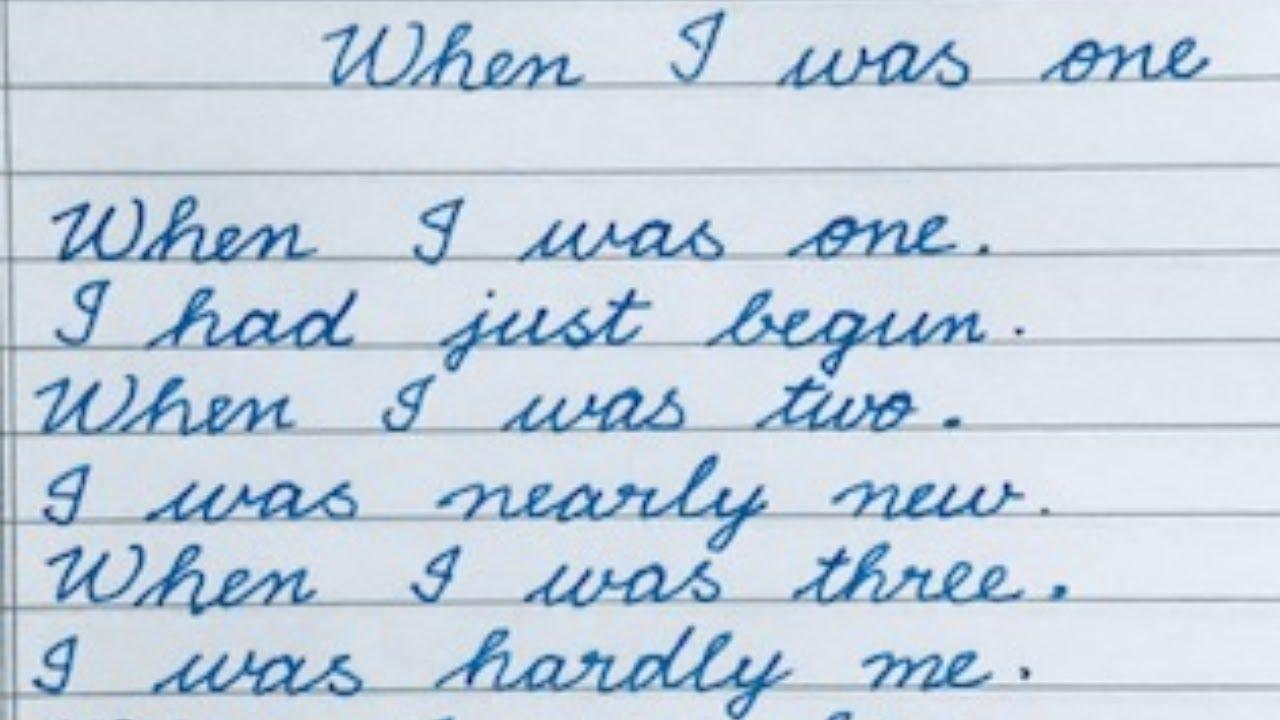text: (38, 447, 1054, 558), (47, 272, 1029, 380), (27, 618, 1034, 720), (40, 534, 1071, 623), (315, 0, 1213, 97), (46, 189, 994, 273), (29, 367, 968, 445)
